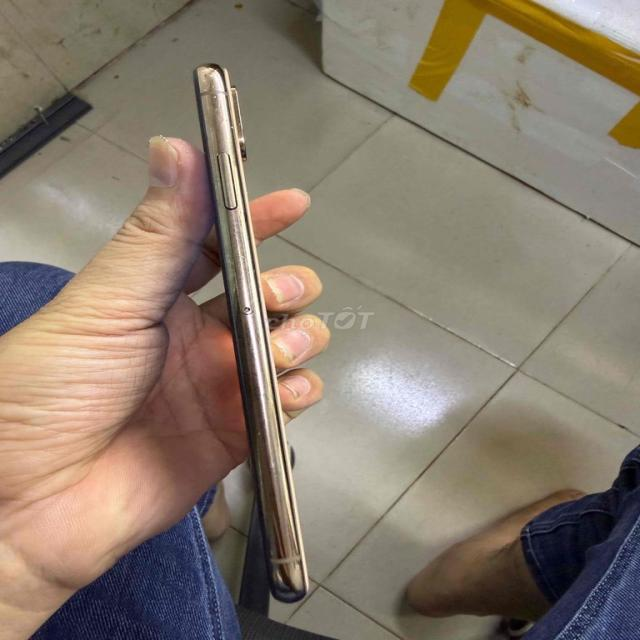gen_x_xs: (194, 64, 308, 602)
